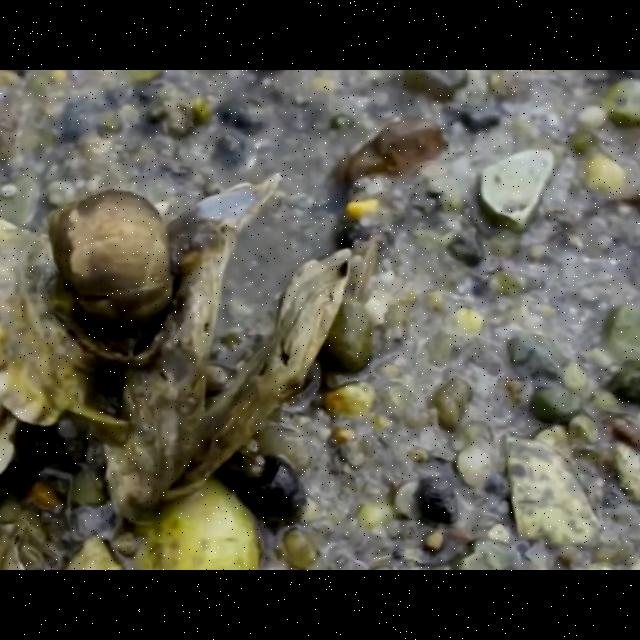Oyster-Closed: (0, 217, 106, 431)
Oyster-Open: (101, 172, 357, 532)
